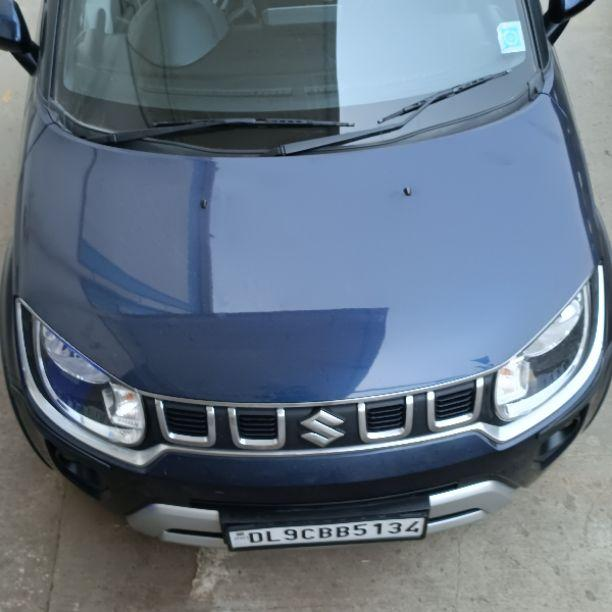license_plate: (222, 515, 427, 550)
